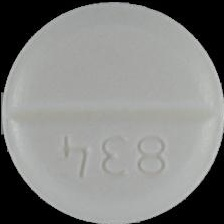68788-9378: (0, 0, 224, 224)
